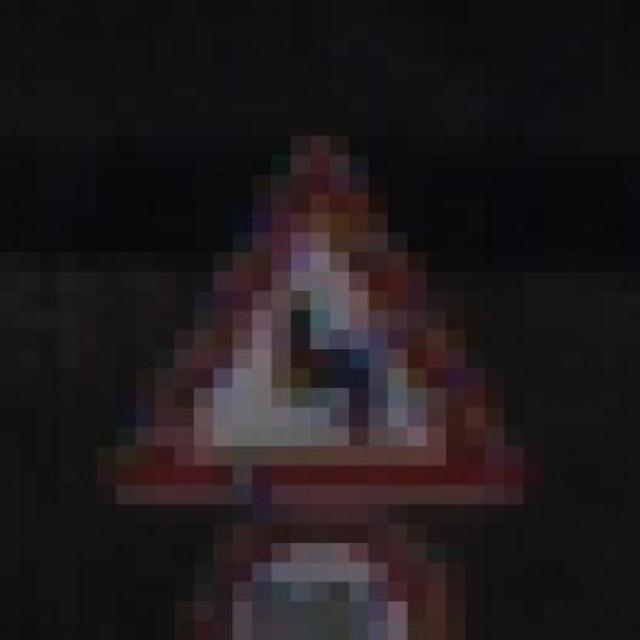Left Zig Zag Traffic: (77, 136, 505, 504)
